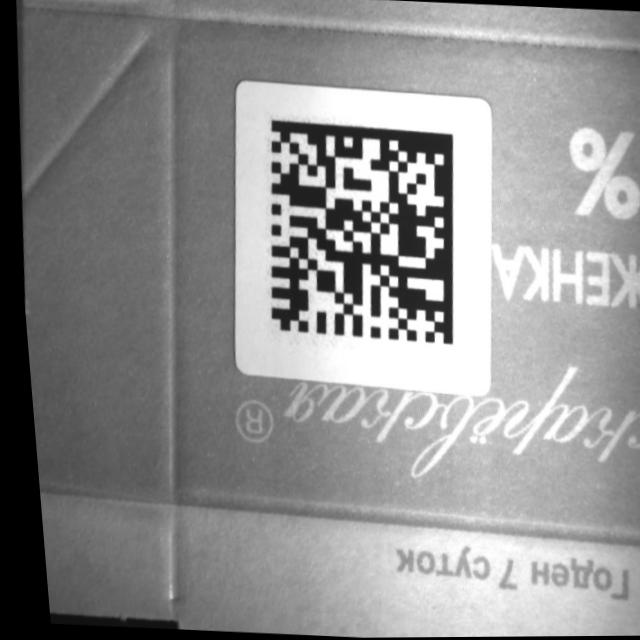datamatrix: (254, 118, 465, 348)
